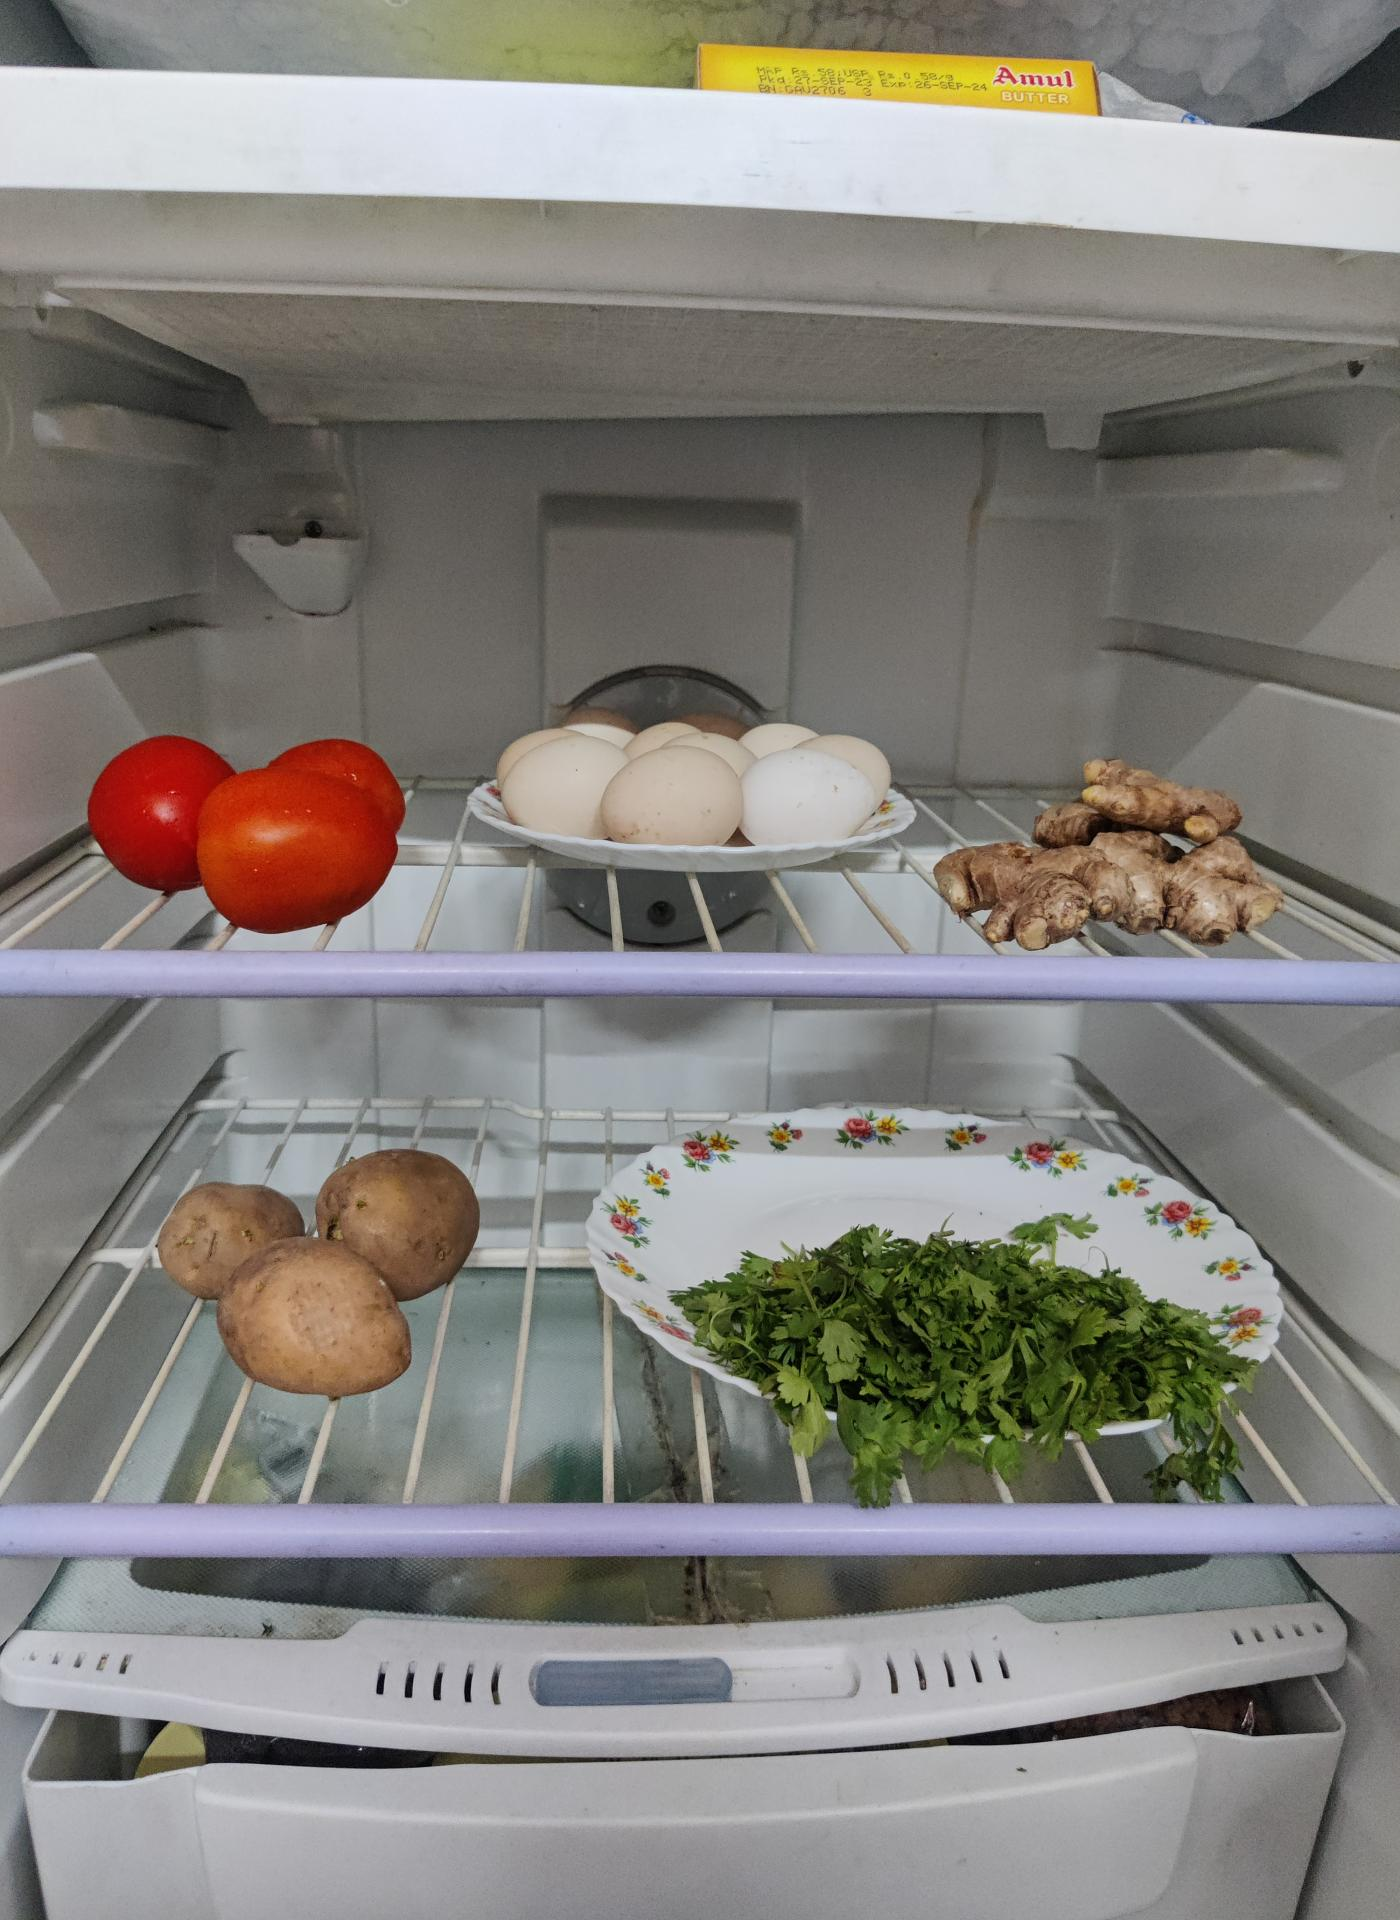coriander: (672, 1218, 1257, 1492)
egg: (489, 711, 899, 954)
ginger: (945, 754, 1285, 953)
potato: (160, 1149, 491, 1400)
tomato: (85, 736, 407, 933)
